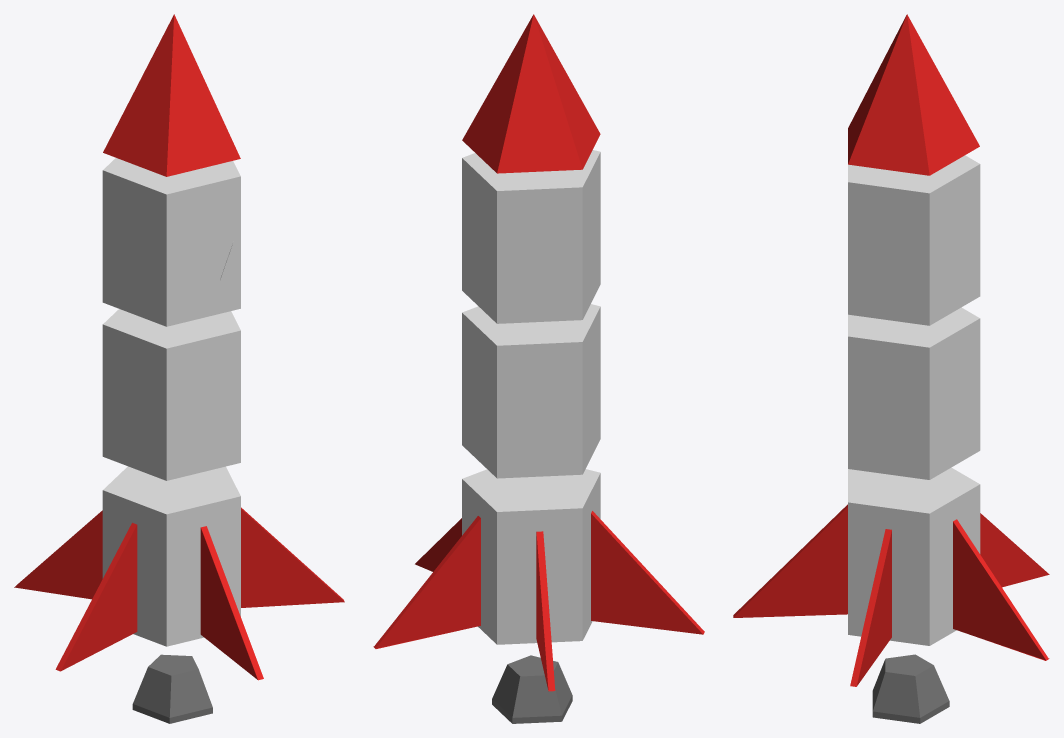
The model's file is Spaceship.gltf.
3 views of the same model, side by side, from view 1: azimuth 30°, elevation 25°; view 2: azimuth 150°, elevation 25°; view 3: azimuth 270°, elevation 25° (orthographic).
Visible parts, largest first — view 1: Fins, Fuselage, Cargo, Tip, Booster; view 2: Fins, Fuselage, Cargo, Tip, Booster; view 3: Fins, Fuselage, Cargo, Tip, Booster.
Part boxes in pixels (box(x1,y1,x2,y2)): Fins: box(14, 466, 344, 680); Fuselage: box(102, 309, 240, 480); Cargo: box(102, 158, 240, 326); Tip: box(103, 14, 240, 176); Booster: box(132, 654, 212, 723); Fins: box(373, 469, 704, 691); Fuselage: box(462, 304, 600, 478); Cargo: box(462, 150, 600, 323); Tip: box(462, 14, 600, 173); Booster: box(492, 655, 572, 723); Fins: box(733, 467, 1049, 686); Fuselage: box(848, 307, 980, 479); Cargo: box(848, 155, 980, 325); Tip: box(848, 14, 979, 175); Booster: box(872, 654, 949, 723).
Bounding box in the file's own units: 4.55 × 10.46 × 4.33.
